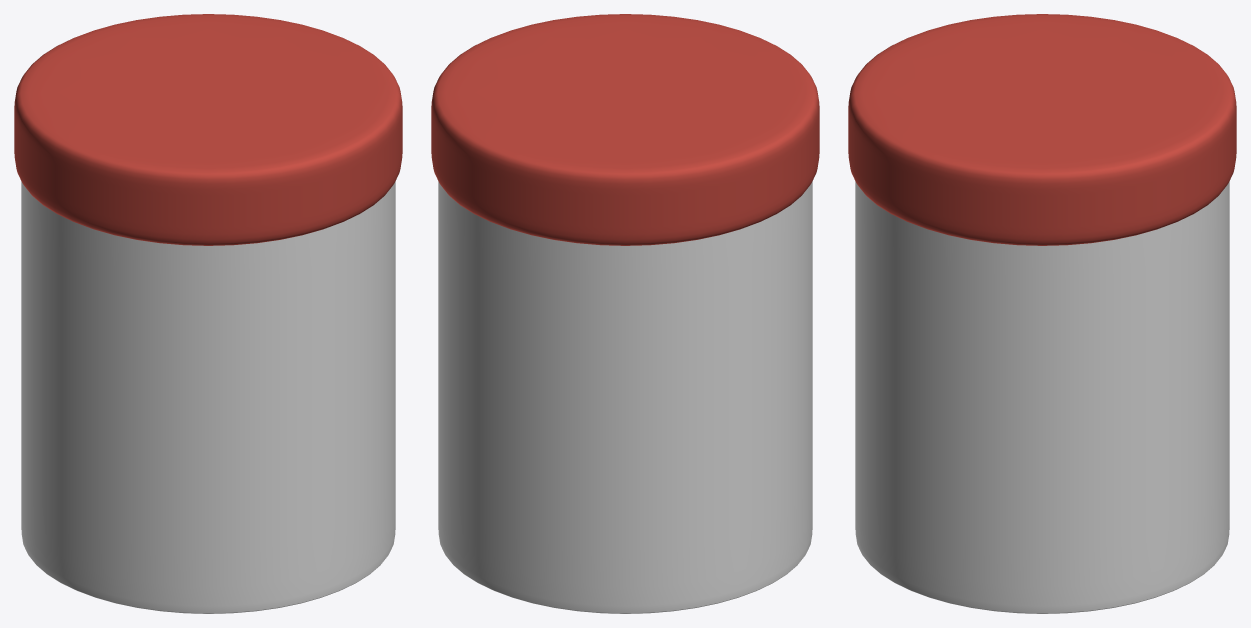
Rendered from peanutbutter.fbx.
The picture shows the model from 3 angles, left to right: view 1: azimuth 30°, elevation 25°; view 2: azimuth 150°, elevation 25°; view 3: azimuth 270°, elevation 25°; orthographic projection.
Parts seen in each view (by area): view 1: peanut1; view 2: peanut1; view 3: peanut1.
Boxes of the visible parts, <box> form: peanut1: <box>14,14,402,613</box>; peanut1: <box>431,14,819,613</box>; peanut1: <box>848,14,1236,613</box>.
Size of the model in its own units: 95.49 by 120 by 95.49.
